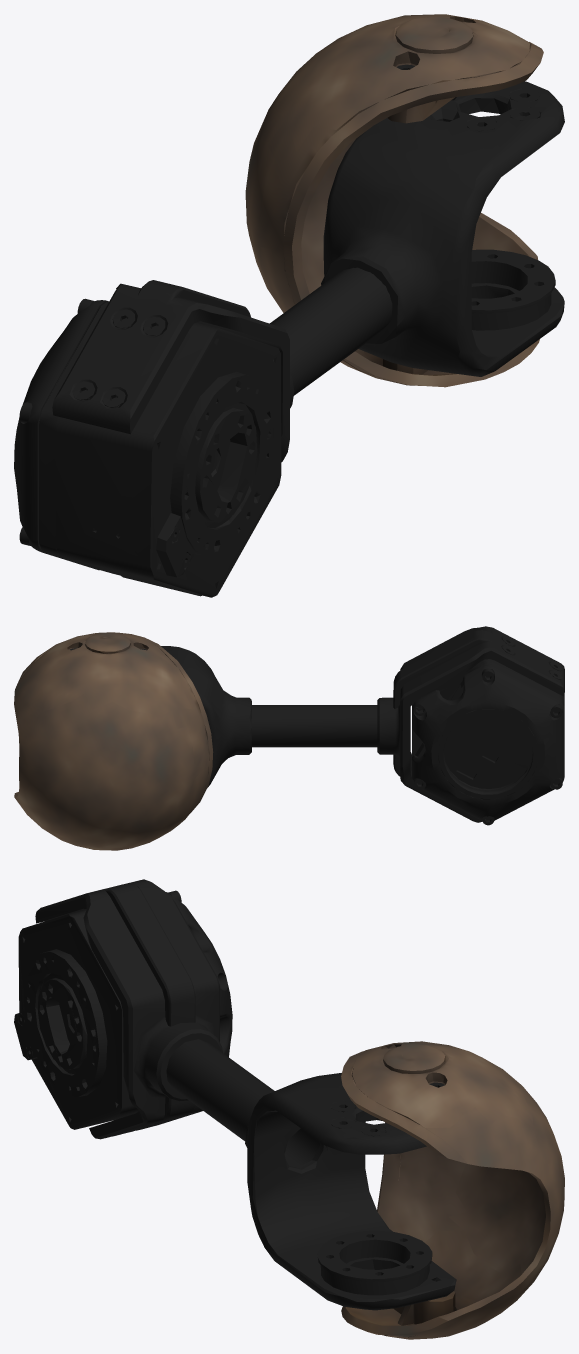
Rendered from upperarm_r.obj.
The picture shows the model from 3 angles, top to bottom: view 1: azimuth 30°, elevation 25°; view 2: azimuth 150°, elevation 25°; view 3: azimuth 270°, elevation 25°; orthographic projection. The views are drawn at different scales.
Parts seen in each view (by area): view 1: upperarm.001; view 2: upperarm.001; view 3: upperarm.001.
Boxes of the visible parts, x1,y1,x2,y2 form: upperarm.001: (14,14,564,597); upperarm.001: (14,626,564,850); upperarm.001: (14,879,564,1339).
Size of the model in its own units: 0.2136 by 0.0975 by 0.1772.
